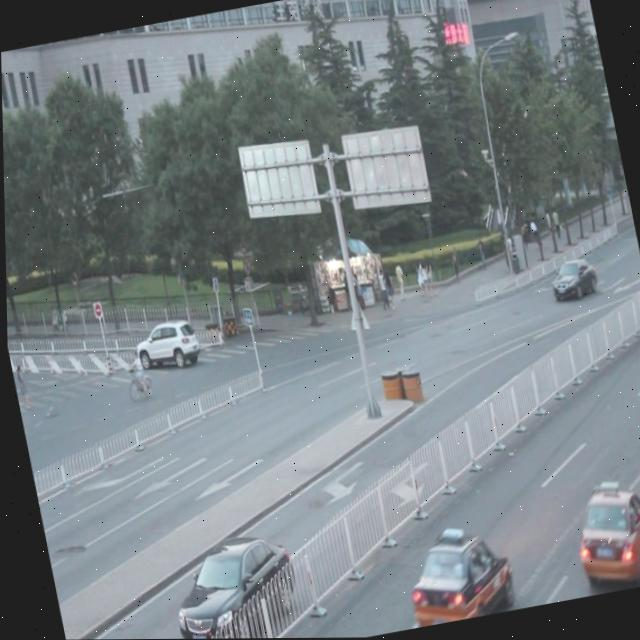car: (160, 525, 301, 639), (396, 520, 515, 628), (562, 474, 640, 587), (129, 315, 200, 374), (542, 249, 599, 303), (62, 622, 153, 640)
